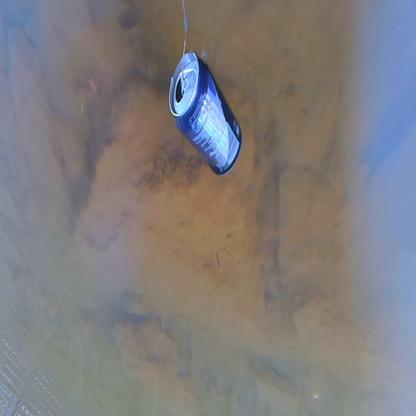can: (167, 50, 243, 177)
